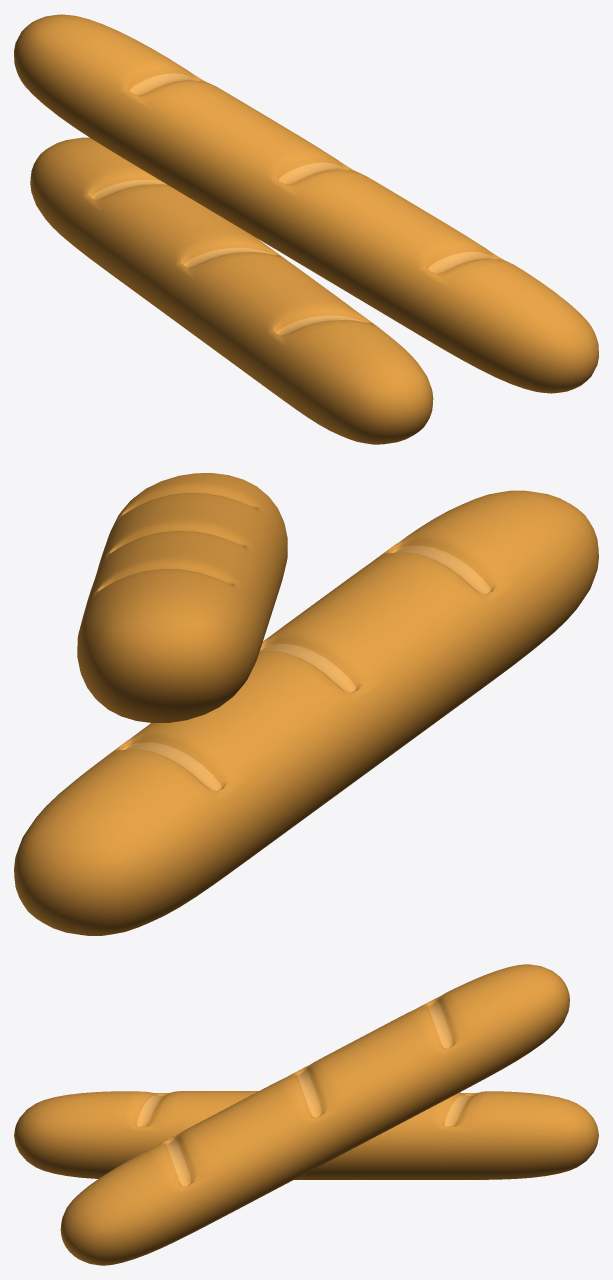
Rendered from Half_Baguette.fbx.
The picture shows the model from 3 angles, top to bottom: view 1: azimuth 30°, elevation 25°; view 2: azimuth 150°, elevation 25°; view 3: azimuth 270°, elevation 25°; orthographic projection. The views are drawn at different scales.
Visible parts, largest first — view 1: Half_Baguette; view 2: Half_Baguette; view 3: Half_Baguette.
Boxes of the visible parts, x1=… form: Half_Baguette: x1=14, y1=14, x2=598, y2=444; Half_Baguette: x1=14, y1=473, x2=598, y2=935; Half_Baguette: x1=14, y1=964, x2=598, y2=1265.
Size of the model in its own units: 19.92 by 14.09 by 38.32.
